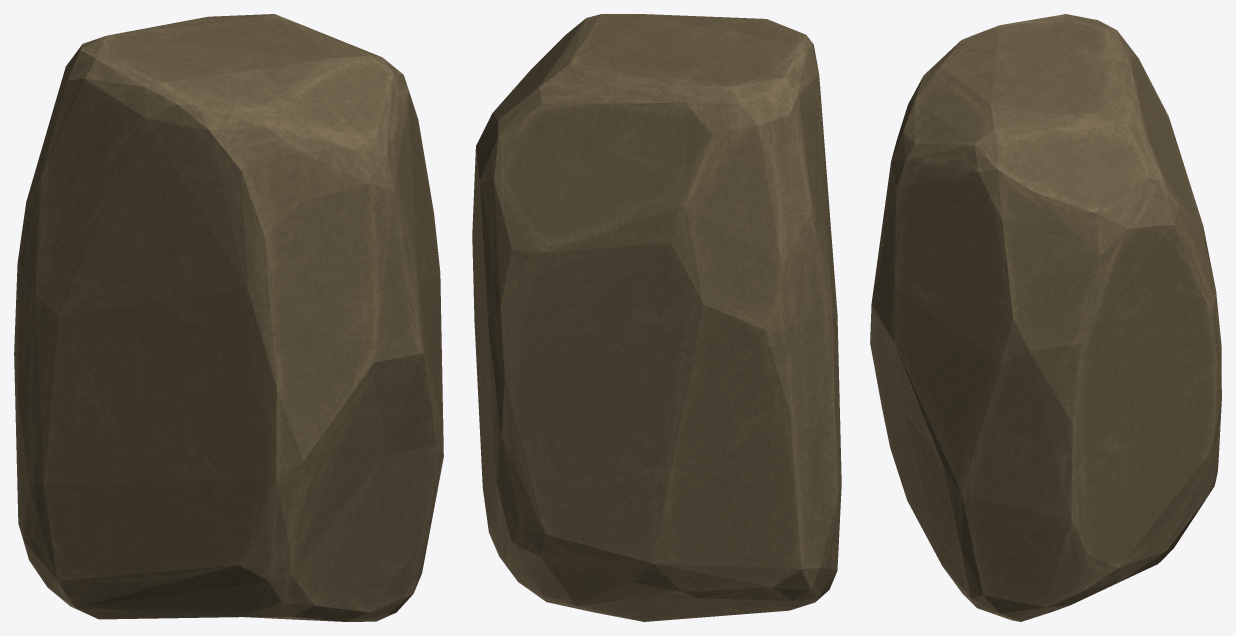
File: ARC0510112.fbx
3 views of the same model, side by side, from view 1: azimuth 30°, elevation 25°; view 2: azimuth 150°, elevation 25°; view 3: azimuth 270°, elevation 25° (orthographic). The views are drawn at different scales.
Visible parts, largest first — view 1: smARC0510112; view 2: smARC0510112; view 3: smARC0510112.
Boxes of the visible parts, x1=… form: smARC0510112: x1=14, y1=14, x2=443, y2=621; smARC0510112: x1=472, y1=14, x2=841, y2=621; smARC0510112: x1=870, y1=14, x2=1221, y2=621.
Bounding box in the file's own units: 485 × 730 × 459.
Materials: 1 (1 with a texture image).
